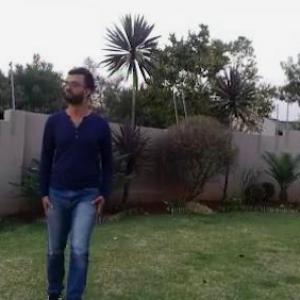follow: (32, 44, 118, 299)
